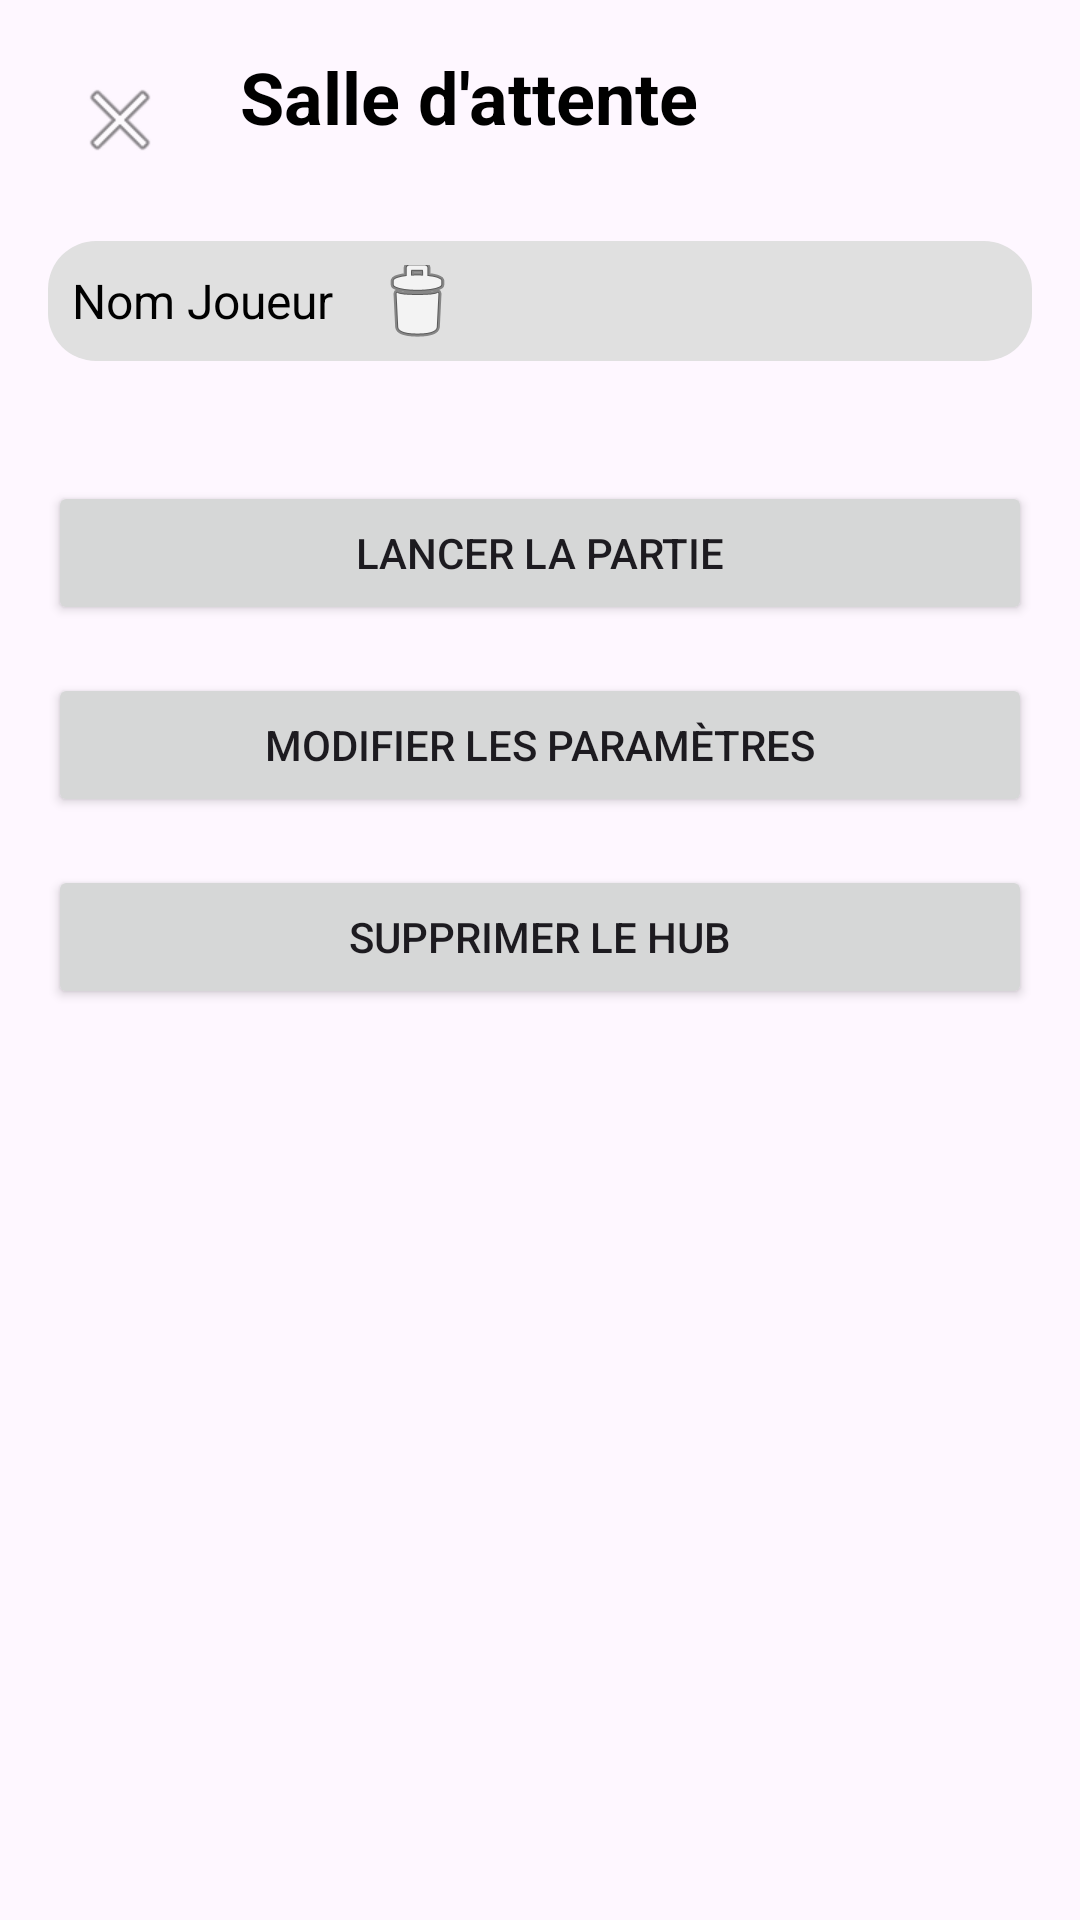

Point at icon controls on the screen. Image size 1080 x 1920, points as point (x, y).
Retour: point (120, 120)
Supprimer: point (417, 301)
